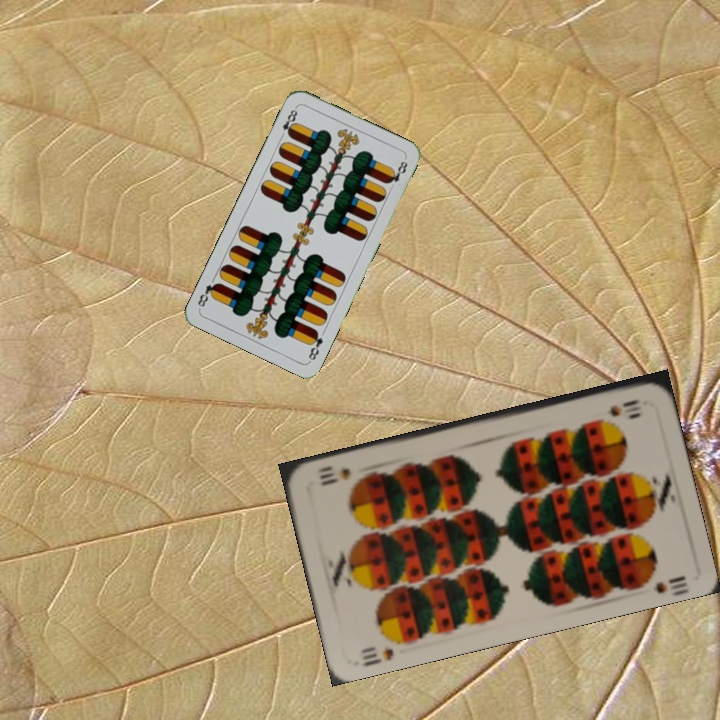E8: (276, 103, 300, 141), (304, 326, 326, 364)
S10: (356, 642, 396, 669), (603, 395, 644, 418)
